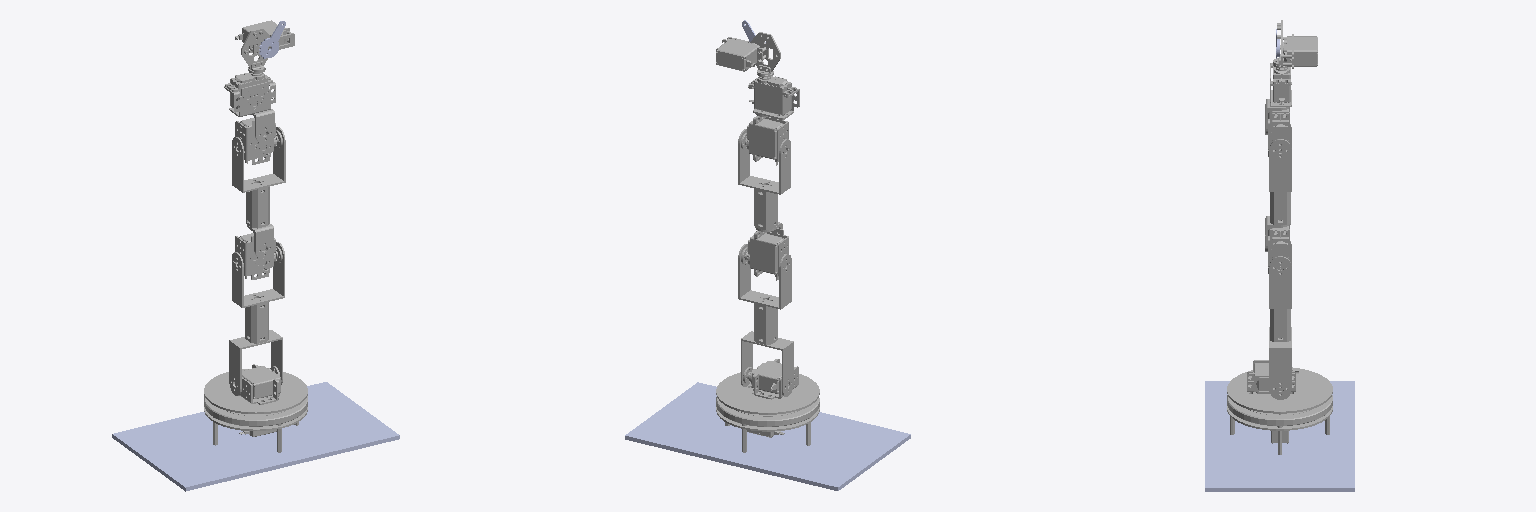
URDF robot description (manipulator_tf2):
<?xml version="1.0" encoding="utf-8"?>
<!-- This URDF was automatically created by SolidWorks to URDF Exporter! Originally created by [author] ([email redacted]) 
     Commit Version: 1.6.0-4-g7f85cfe  Build Version: 1.6.7995.38578
     For more information, please see http://wiki.ros.org/sw_urdf_exporter -->
<robot
  name="manipulator_tf2">
  <link
    name="base_link">
    <inertial>
      <origin
        xyz="-1.13816966653457E-15 -1.11047232053973E-14 -0.0025"
        rpy="0 0 0" />
      <mass
        value="0.240825" />
      <inertia
        ixx="0.0005736852875"
        ixy="1.07152882370721E-15"
        ixz="2.56056658386423E-15"
        iyy="0.0016305859375"
        iyz="2.74752429868559E-15"
        izz="0.0022032677875" />
    </inertial>
    <visual>
      <origin
        xyz="0 0 0"
        rpy="0 0 0" />
      <geometry>
        <mesh
          filename="package://manipulator_tf2/meshes/base_link.STL" />
      </geometry>
      <material
        name="">
        <color
          rgba="0.792156862745098 0.819607843137255 0.933333333333333 1" />
      </material>
    </visual>
    <collision>
      <origin
        xyz="0 0 0"
        rpy="0 0 0" />
      <geometry>
        <mesh
          filename="package://manipulator_tf2/meshes/base_link.STL" />
      </geometry>
    </collision>
  </link>
  <link
    name="arm_base_link">
    <inertial>
      <origin
        xyz="0.00315346600317936 -1.49065342340387E-09 0.0318153972423446"
        rpy="0 0 0" />
      <mass
        value="0.0888805032863536" />
      <inertia
        ixx="7.78274568162348E-05"
        ixy="-9.02366661314261E-13"
        ixz="-4.51119521708736E-08"
        iyy="8.05930936282739E-05"
        iyz="6.09842168253615E-13"
        izz="0.000152787665848685" />
    </inertial>
    <visual>
      <origin
        xyz="0 0 0"
        rpy="0 0 0" />
      <geometry>
        <mesh
          filename="package://manipulator_tf2/meshes/arm_base_link.STL" />
      </geometry>
      <material
        name="">
        <color
          rgba="0.752941176470588 0.752941176470588 0.752941176470588 1" />
      </material>
    </visual>
    <collision>
      <origin
        xyz="0 0 0"
        rpy="0 0 0" />
      <geometry>
        <mesh
          filename="package://manipulator_tf2/meshes/arm_base_link.STL" />
      </geometry>
    </collision>
  </link>
  <joint
    name="arm_base_joint"
    type="fixed">
    <origin
      xyz="0 0 0"
      rpy="0 0 0" />
    <parent
      link="base_link" />
    <child
      link="arm_base_link" />
    <axis
      xyz="0 0 0" />
  </joint>
  <link
    name="arm_1_link">
    <inertial>
      <origin
        xyz="-0.00304007438039228 0.0196164335050336 -0.0029151743300493"
        rpy="0 0 0" />
      <mass
        value="0.102309676287535" />
      <inertia
        ixx="5.85277337608597E-05"
        ixy="-1.83034149081814E-07"
        ixz="-5.85534183279991E-07"
        iyy="0.000109918724976136"
        iyz="3.63049047141081E-07"
        izz="5.95682017970673E-05" />
    </inertial>
    <visual>
      <origin
        xyz="0 0 0"
        rpy="0 0 0" />
      <geometry>
        <mesh
          filename="package://manipulator_tf2/meshes/arm_1_link.STL" />
      </geometry>
      <material
        name="">
        <color
          rgba="0.752941176470588 0.752941176470588 0.752941176470588 1" />
      </material>
    </visual>
    <collision>
      <origin
        xyz="0 0 0"
        rpy="0 0 0" />
      <geometry>
        <mesh
          filename="package://manipulator_tf2/meshes/arm_1_link.STL" />
      </geometry>
    </collision>
  </link>
  <joint
    name="arm_1_joint"
    type="continuous">
    <origin
      xyz="0 0 0.0374999999996634"
      rpy="1.5707963267949 0 1.96777674023095" />
    <parent
      link="arm_base_link" />
    <child
      link="arm_1_link" />
    <axis
      xyz="0 1 0" />
    <limit
      lower="-1.57"
      upper="1.57"
      effort="10"
      velocity="100" />
  </joint>
  <link
    name="arm_2_link">
    <inertial>
      <origin
        xyz="-0.00136241892660666 0.0760000000000054 0.00324974749168586"
        rpy="0 0 0" />
      <mass
        value="0.0731866074343534" />
      <inertia
        ixx="4.80073815600738E-05"
        ixy="-1.00851029255912E-08"
        ixz="8.91994561566129E-06"
        iyy="3.20760640864427E-05"
        iyz="2.40557713107402E-08"
        izz="3.04704178358833E-05" />
    </inertial>
    <visual>
      <origin
        xyz="0 0 0"
        rpy="0 0 0" />
      <geometry>
        <mesh
          filename="package://manipulator_tf2/meshes/arm_2_link.STL" />
      </geometry>
      <material
        name="">
        <color
          rgba="0.752941176470588 0.752941176470588 0.752941176470588 1" />
      </material>
    </visual>
    <collision>
      <origin
        xyz="0 0 0"
        rpy="0 0 0" />
      <geometry>
        <mesh
          filename="package://manipulator_tf2/meshes/arm_2_link.STL" />
      </geometry>
    </collision>
  </link>
  <joint
    name="arm_2_joint"
    type="continuous">
    <origin
      xyz="0.000571784259143912 0.0325000000003336 0.000239713915762298"
      rpy="0 0 0" />
    <parent
      link="arm_1_link" />
    <child
      link="arm_2_link" />
    <axis
      xyz="0.386635347795088 0 -0.922232675540924" />
    <limit
      lower="-1.57"
      upper="1.57"
      effort="10"
      velocity="100" />
  </joint>
  <link
    name="arm_3_link">
    <inertial>
      <origin
        xyz="-0.00258153228737828 0.0524015939543157 0.000939181170547908"
        rpy="0 0 0" />
      <mass
        value="0.103604281307373" />
      <inertia
        ixx="3.8588101873845E-05"
        ixy="-4.80398867397133E-07"
        ixz="5.05895931054399E-06"
        iyy="2.2886211390493E-05"
        iyz="-1.44453325729104E-07"
        izz="2.97794533690996E-05" />
    </inertial>
    <visual>
      <origin
        xyz="0 0 0"
        rpy="0 0 0" />
      <geometry>
        <mesh
          filename="package://manipulator_tf2/meshes/arm_3_link.STL" />
      </geometry>
      <material
        name="">
        <color
          rgba="0.752941176470588 0.752941176470588 0.752941176470588 1" />
      </material>
    </visual>
    <collision>
      <origin
        xyz="0 0 0"
        rpy="0 0 0" />
      <geometry>
        <mesh
          filename="package://manipulator_tf2/meshes/arm_3_link.STL" />
      </geometry>
    </collision>
  </link>
  <joint
    name="arm_3_joint"
    type="continuous">
    <origin
      xyz="0 0.151999999999983 0"
      rpy="0 0 0" />
    <parent
      link="arm_2_link" />
    <child
      link="arm_3_link" />
    <axis
      xyz="0.386635347795088 0 -0.922232675540924" />
    <limit
      lower="-1.57"
      upper="1.57"
      effort="10"
      velocity="100" />
  </joint>
  <link
    name="arm_4_link">
    <inertial>
      <origin
        xyz="-0.00101187424520457 0.0375011786162054 -0.00366708119525012"
        rpy="0 0 0" />
      <mass
        value="0.0995665365963181" />
      <inertia
        ixx="2.11129357501019E-05"
        ixy="-8.60509757951901E-08"
        ixz="2.61664433182121E-06"
        iyy="1.51148952173046E-05"
        iyz="-3.6075873075768E-08"
        izz="1.71059724055467E-05" />
    </inertial>
    <visual>
      <origin
        xyz="0 0 0"
        rpy="0 0 0" />
      <geometry>
        <mesh
          filename="package://manipulator_tf2/meshes/arm_4_link.STL" />
      </geometry>
      <material
        name="">
        <color
          rgba="0.752941176470588 0.752941176470588 0.752941176470588 1" />
      </material>
    </visual>
    <collision>
      <origin
        xyz="0 0 0"
        rpy="0 0 0" />
      <geometry>
        <mesh
          filename="package://manipulator_tf2/meshes/arm_4_link.STL" />
      </geometry>
    </collision>
  </link>
  <joint
    name="arm_4_joint"
    type="continuous">
    <origin
      xyz="0 0.146399999999996 0"
      rpy="0 0 0" />
    <parent
      link="arm_3_link" />
    <child
      link="arm_4_link" />
    <axis
      xyz="0.386635347795096 0 -0.922232675540921" />
    <limit
      lower="-1.57"
      upper="1.57"
      effort="10"
      velocity="100" />
  </joint>
  <link
    name="arm_5_link">
    <inertial>
      <origin
        xyz="-0.00868940056198372 0.0276881873218452 -0.0253003257922137"
        rpy="0 0 0" />
      <mass
        value="0.0375612763479438" />
      <inertia
        ixx="6.51328878264191E-06"
        ixy="4.8242574596218E-09"
        ixz="1.70111525571286E-06"
        iyy="6.43248404947129E-06"
        iyz="-9.59375876064533E-09"
        izz="2.95122659500973E-06" />
    </inertial>
    <visual>
      <origin
        xyz="0 0 0"
        rpy="0 0 0" />
      <geometry>
        <mesh
          filename="package://manipulator_tf2/meshes/arm_5_link.STL" />
      </geometry>
      <material
        name="">
        <color
          rgba="0.752941176470588 0.752941176470588 0.752941176470588 1" />
      </material>
    </visual>
    <collision>
      <origin
        xyz="0 0 0"
        rpy="0 0 0" />
      <geometry>
        <mesh
          filename="package://manipulator_tf2/meshes/arm_5_link.STL" />
      </geometry>
    </collision>
  </link>
  <joint
    name="arm_5_joint"
    type="continuous">
    <origin
      xyz="0.000560909224782251 0.0911499999988545 0.00281042669964111"
      rpy="3.14159265358979 0 3.14159265358979" />
    <parent
      link="arm_4_link" />
    <child
      link="arm_5_link" />
    <axis
      xyz="0 1 0" />
    <limit
      lower="-1.57"
      upper="1.57"
      effort="10"
      velocity="100" />
  </joint>
  <link
    name="gripper_1_link">
    <inertial>
      <origin
        xyz="0.000163480468778371 -0.00403983489031307 0.00336463442656966"
        rpy="0 0 0" />
      <mass
        value="0.00233893532260202" />
      <inertia
        ixx="2.44085104510353E-07"
        ixy="-4.91339631989955E-09"
        ixz="-5.7312695281465E-19"
        iyy="7.71995240693851E-08"
        iyz="2.04126223863806E-18"
        izz="3.18397565042681E-07" />
    </inertial>
    <visual>
      <origin
        xyz="0 0 0"
        rpy="0 0 0" />
      <geometry>
        <mesh
          filename="package://manipulator_tf2/meshes/gripper_1_link.STL" />
      </geometry>
      <material
        name="">
        <color
          rgba="0.792156862745098 0.819607843137255 0.933333333333333 1" />
      </material>
    </visual>
    <collision>
      <origin
        xyz="0 0 0"
        rpy="0 0 0" />
      <geometry>
        <mesh
          filename="package://manipulator_tf2/meshes/gripper_1_link.STL" />
      </geometry>
    </collision>
  </link>
  <joint
    name="gripper_1_joint"
    type="continuous">
    <origin
      xyz="0.00681042856091228 0.0295000000010719 -0.0117831951448031"
      rpy="0.907774019708768 -0.891606334193261 2.11682187298042" />
    <parent
      link="arm_5_link" />
    <child
      link="gripper_1_link" />
    <axis
      xyz="0 0 1" />
    <limit
      lower="-1.57"
      upper="1.57"
      effort="10"
      velocity="100" />
  </joint>
</robot>

--- What the picture shows (computed from the rendered views, not written in the file) ---
3 views of the same robot in one strip: view 1: azimuth 30°, elevation 25°; view 2: azimuth 150°, elevation 25°; view 3: azimuth 270°, elevation 25° (orthographic).
Model manipulator_tf2 with 8 links and 7 joints (6 continuous, 1 fixed), rooted at base_link, posed every joint at zero.
Links seen in each view (by area): view 1: base_link, arm_3_link, arm_2_link, arm_1_link, arm_4_link, arm_base_link, arm_5_link; view 2: base_link, arm_3_link, arm_2_link, arm_1_link, arm_4_link, arm_base_link, arm_5_link; view 3: base_link, arm_1_link, arm_2_link, arm_3_link, arm_base_link, arm_4_link, arm_5_link.
Boxes of the visible links, <box> form: base_link: <box>112,382,399,491</box>; arm_3_link: <box>232,127,285,279</box>; arm_2_link: <box>229,242,284,395</box>; arm_1_link: <box>204,364,307,415</box>; arm_4_link: <box>224,72,276,164</box>; arm_base_link: <box>204,396,307,452</box>; arm_5_link: <box>235,20,294,73</box>; base_link: <box>625,382,910,490</box>; arm_3_link: <box>738,129,790,280</box>; arm_2_link: <box>738,244,793,396</box>; arm_1_link: <box>716,359,819,416</box>; arm_4_link: <box>747,76,799,165</box>; arm_base_link: <box>716,397,819,452</box>; arm_5_link: <box>716,32,780,76</box>; base_link: <box>1205,381,1354,491</box>; arm_1_link: <box>1227,360,1332,414</box>; arm_2_link: <box>1269,241,1291,399</box>; arm_3_link: <box>1265,124,1291,273</box>; arm_base_link: <box>1227,395,1332,454</box>; arm_4_link: <box>1265,63,1291,156</box>; arm_5_link: <box>1273,20,1317,68</box>.
Size in the robot's own frame: 0.285 by 0.169 by 0.5246 metres.
8 mesh visuals loaded from 8 distinct referenced files (8 binary STL).